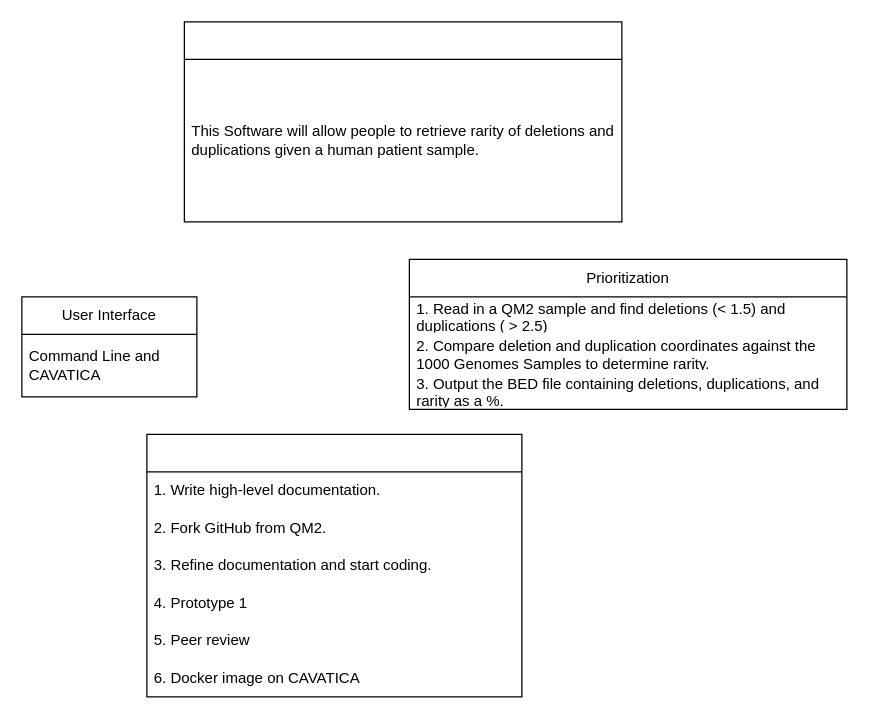
This 869x719 diagram has some shape labels left out. Here are the shapes that lost their labels. From the top down, the box of each, then its label:
(183, 21, 622, 222): Functional Description
(146, 433, 522, 697): Goals and Milestones
